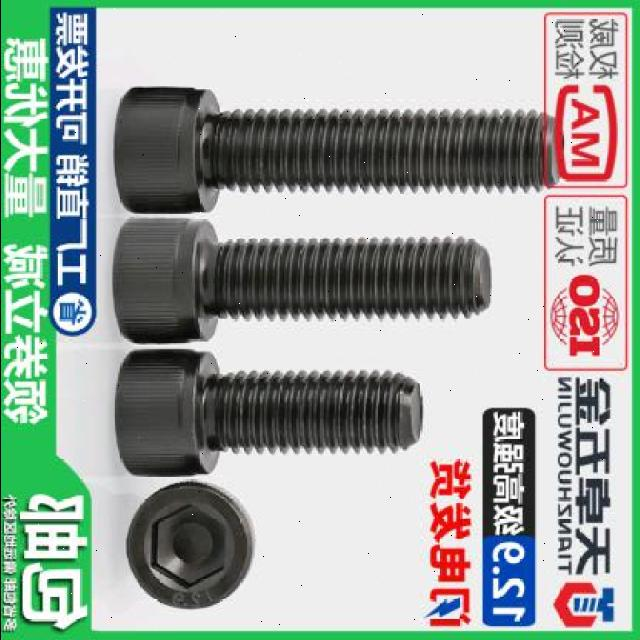Bolt: (111, 83, 563, 215), (109, 213, 491, 344), (113, 346, 424, 476), (123, 480, 257, 614)
